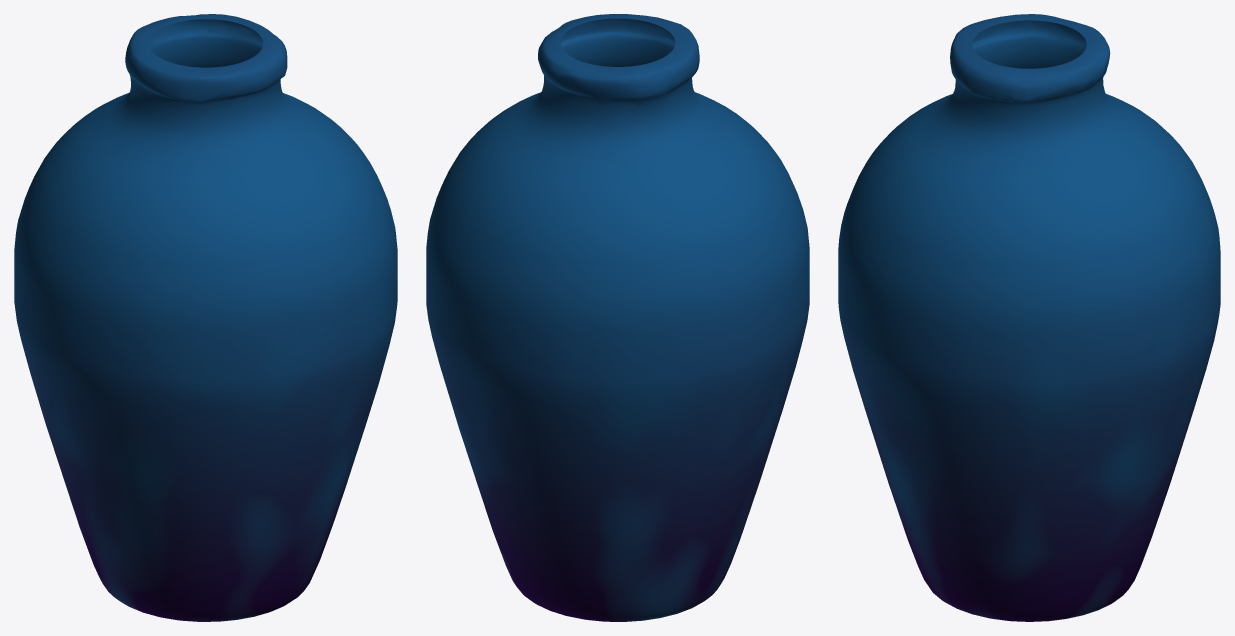
The model's file is tubo_blue.fbx.
The picture shows the model from 3 angles, left to right: view 1: azimuth 30°, elevation 25°; view 2: azimuth 150°, elevation 25°; view 3: azimuth 270°, elevation 25°; orthographic projection.
Parts seen in each view (by area): view 1: 円柱; view 2: 円柱; view 3: 円柱.
Boxes of the visible parts, box(x1,y1,x2,y2) form: 円柱: box(14, 14, 397, 621); 円柱: box(426, 14, 809, 621); 円柱: box(838, 14, 1220, 621).
Size of the model in its own units: 2.37 by 3.69 by 2.37.
